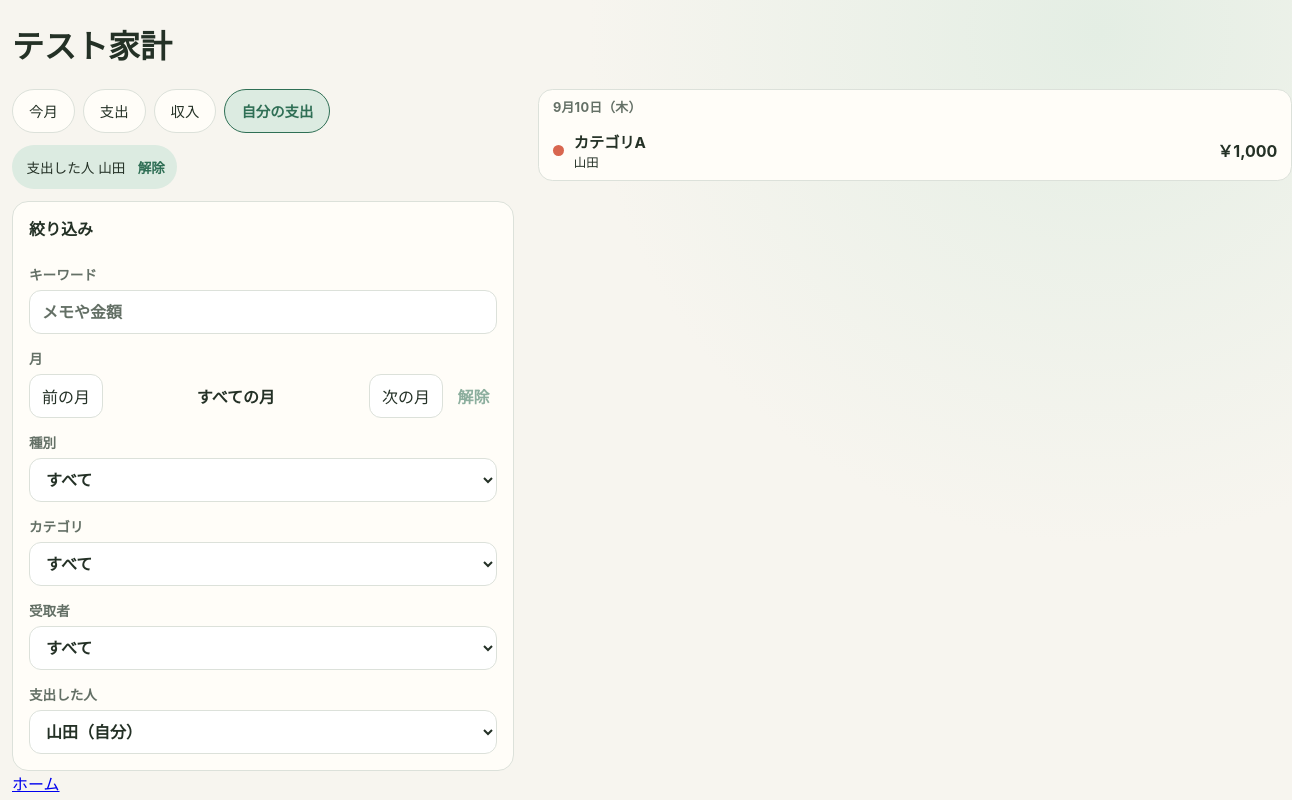
it: HistoryView の絞り込みsheet (HIS-002, HIS-008) › 適用中条件の「解除」もページ遷移せずに反映する
Click the link with aria-label "支出した人 山田の絞り込みを解除".
click(151, 168)  # box [138,160,165,176]
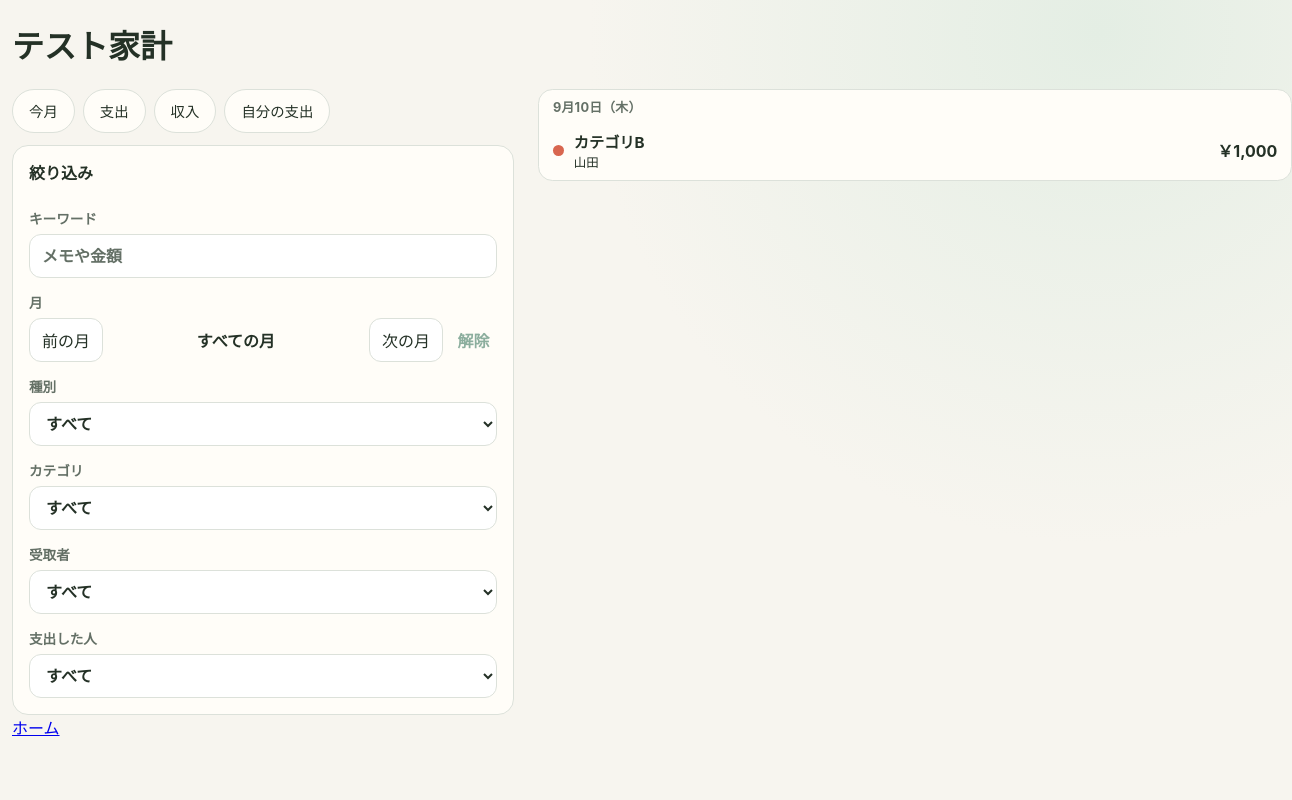
Expected: the list "適用中の絞り込み" is gone
